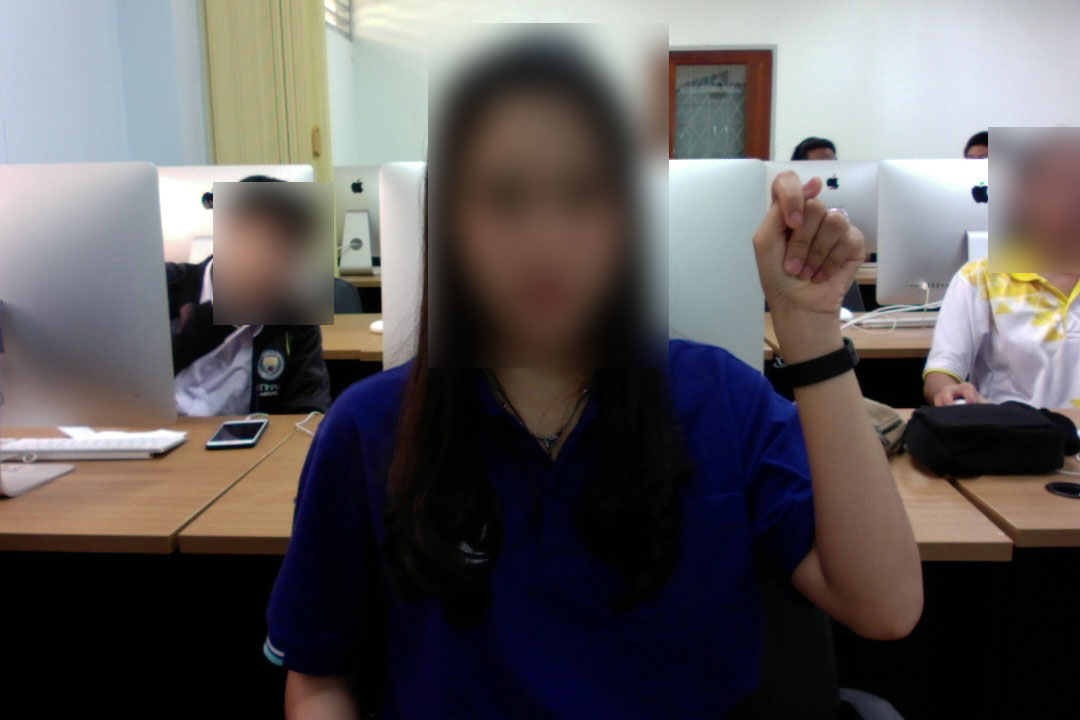tor: (740, 166, 870, 336)
